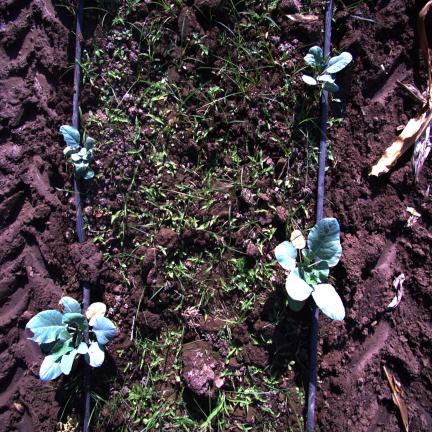crop: (26, 297, 116, 381), (275, 218, 345, 321), (302, 46, 352, 92), (60, 125, 95, 179)
